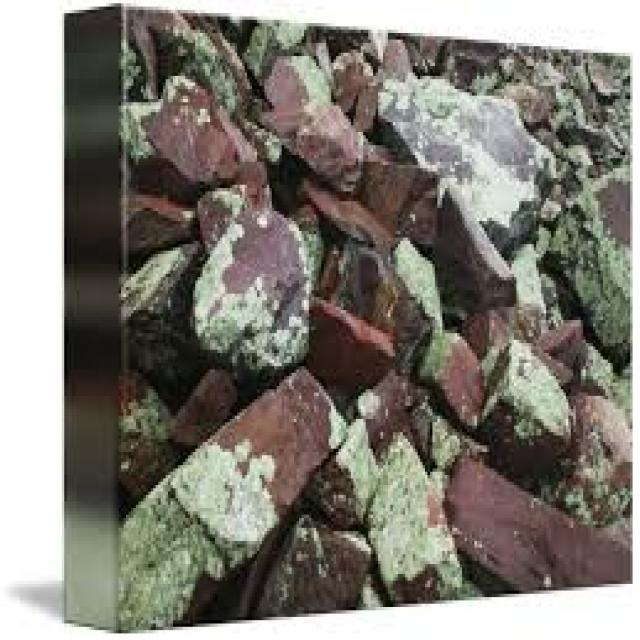Metamorphic: (72, 10, 620, 594)
